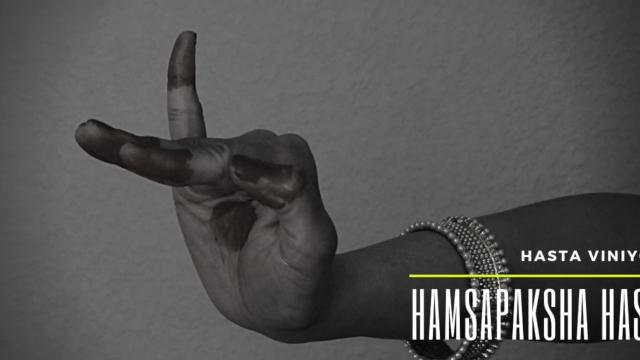Hamsapaksha: (64, 21, 356, 332)
